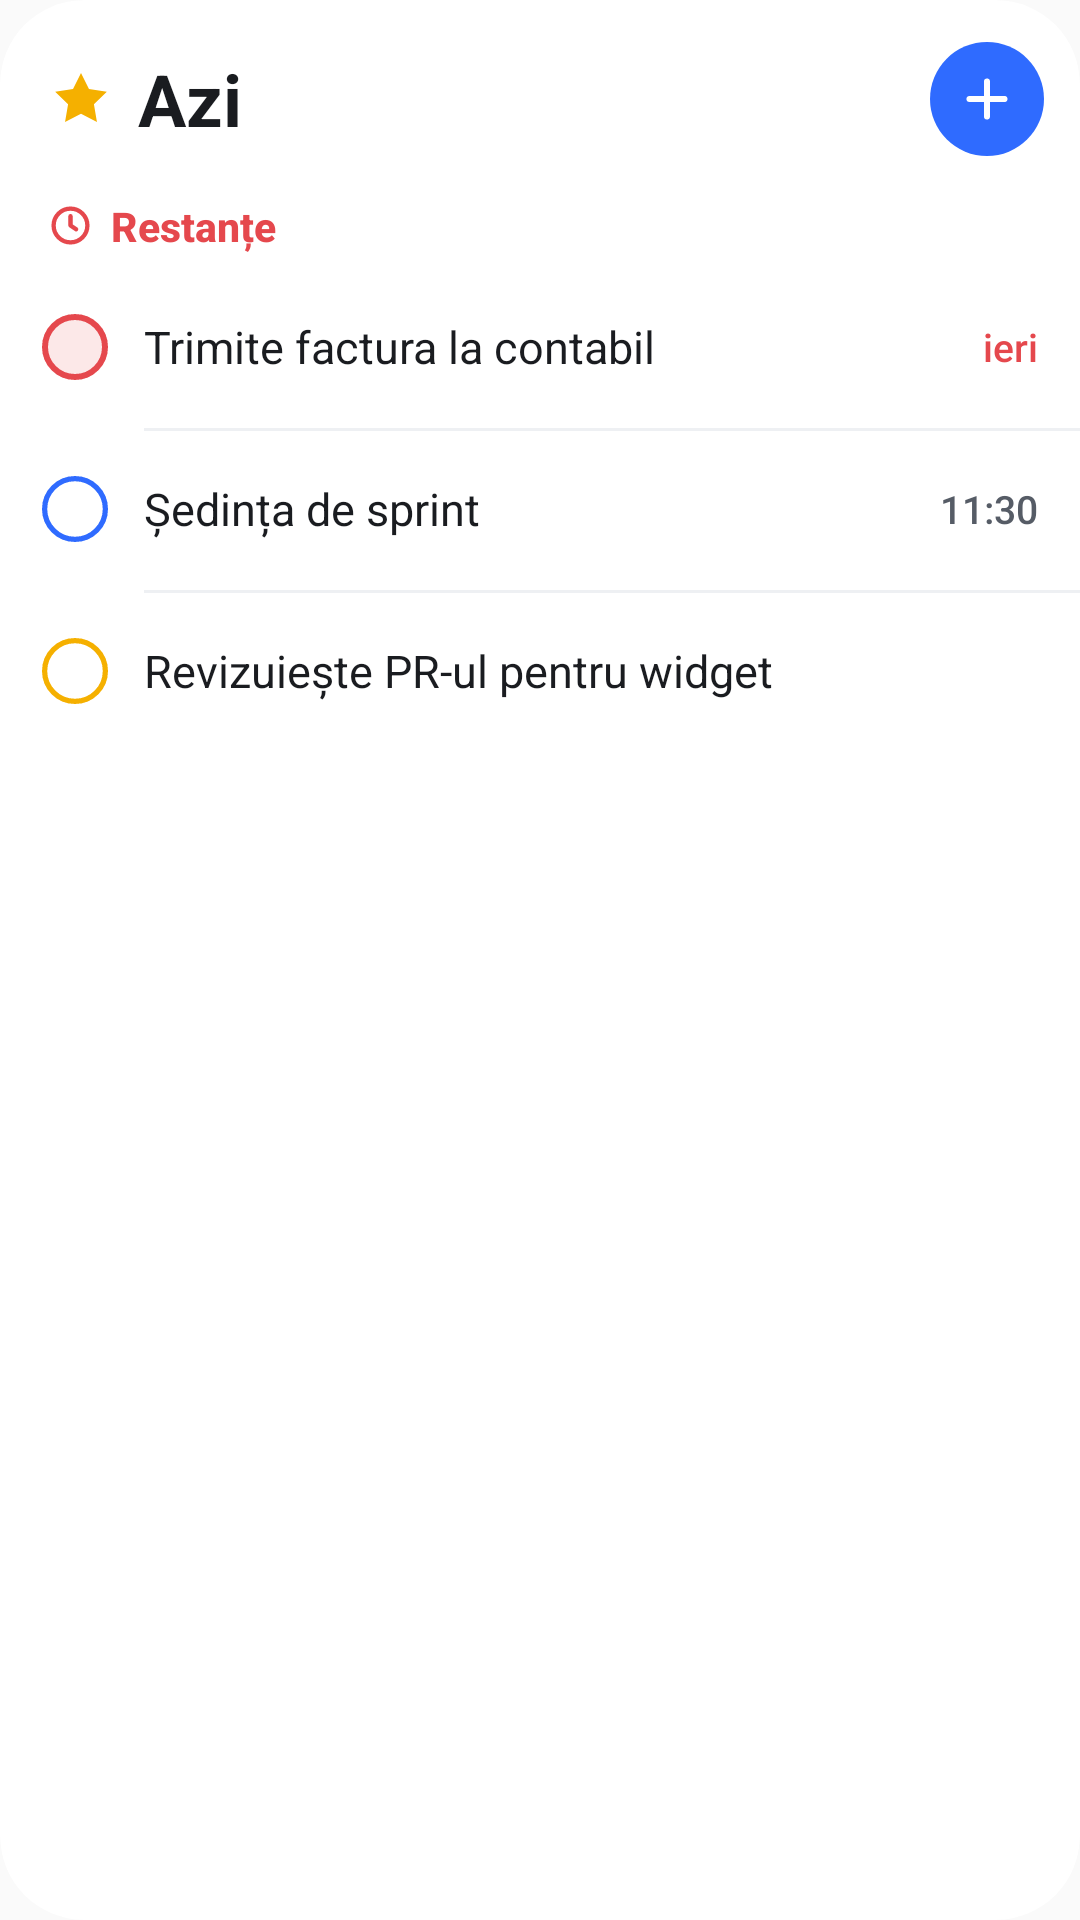

Icons on this 1080*1920 Android screen, each with its box as (x1, y1, x2, y2):
ring: (42, 476, 108, 542), (42, 638, 108, 704)
urgent ring: (42, 314, 108, 380)
widget clock: (51, 206, 90, 245)
widget plus: (930, 42, 1044, 156)
widget star: (55, 73, 107, 122)
